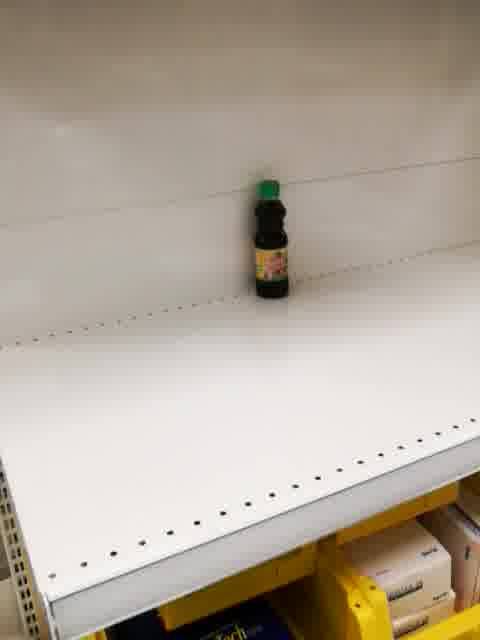cookingoil: (251, 176, 291, 300)
